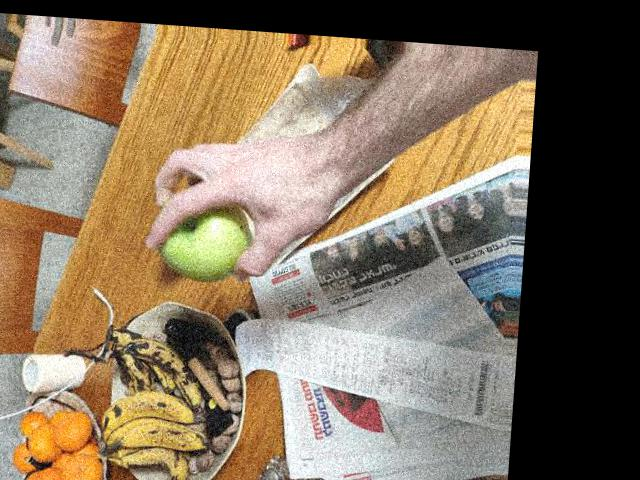apple: (141, 181, 272, 282)
